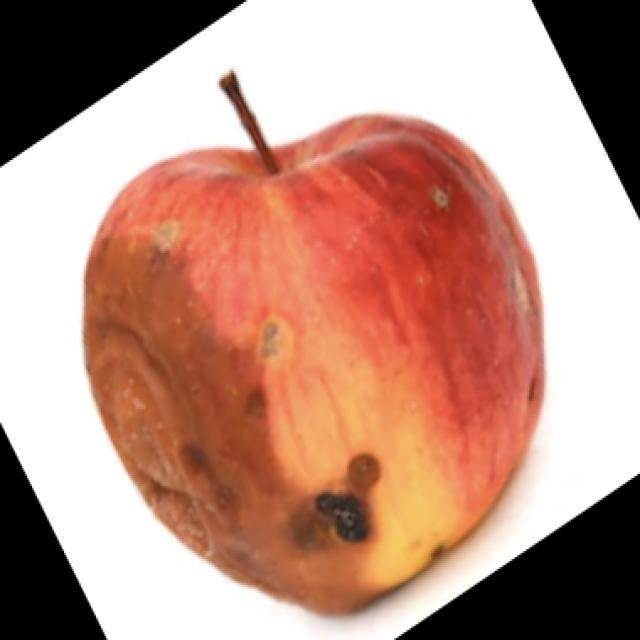Rotten: (74, 106, 564, 602)
